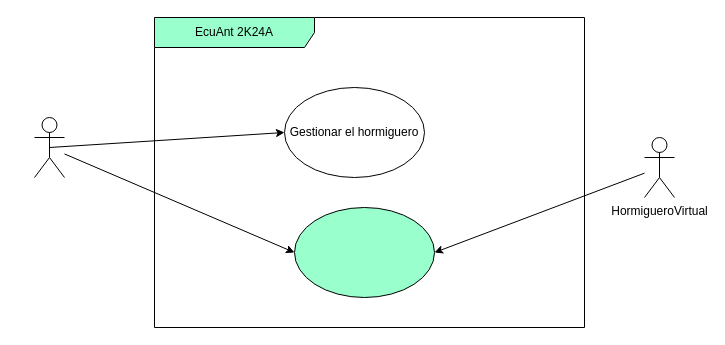
Image size: 725x345. Some labels were removed from this diagram. The shapes that lost their labels are listed below. From the top down, each one's centre as x and y in pixels, then its label:
At point (49, 147): "Entomólogo".
At point (364, 252): "Crear, alimentar, eliminar y entrenar hormiga".
